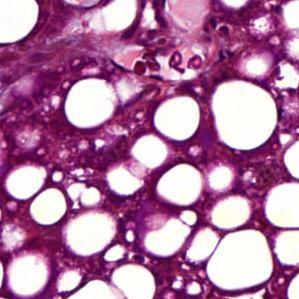steatosis: (213, 78, 279, 153), (156, 163, 204, 207), (154, 97, 200, 141), (0, 0, 39, 45), (30, 189, 67, 227)
